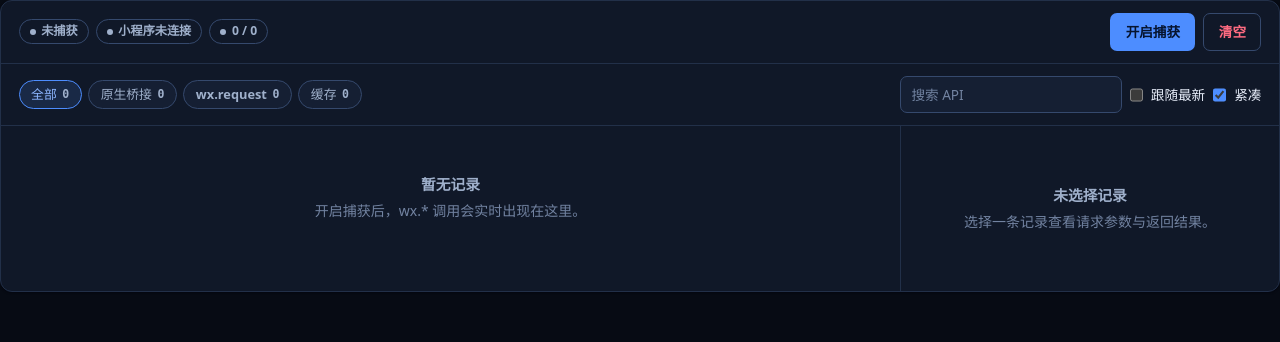
Test case: WxApiView › stops capture and reports backend errors
Click the button with test id "wxapi-toggle" at (1153, 32), box left=1110, top=13, right=1196, bottom=51
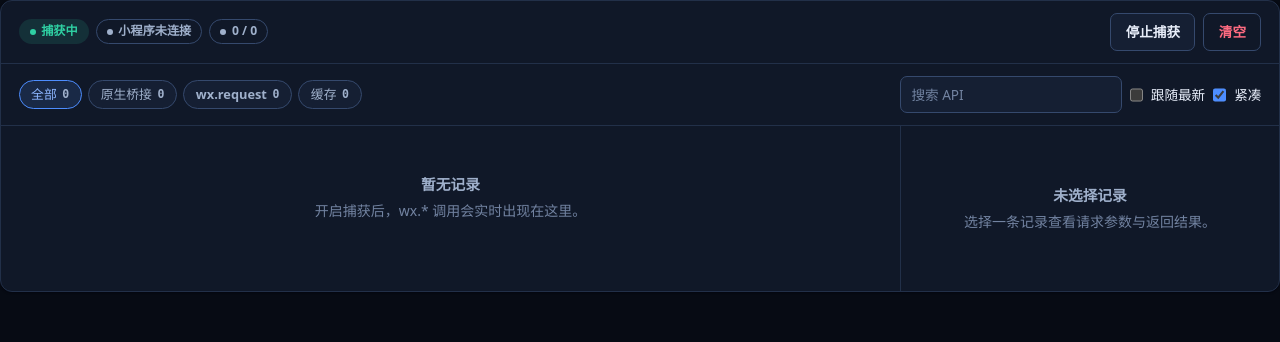
Click the button with test id "wxapi-toggle" at (1153, 32), box left=1110, top=13, right=1196, bottom=51
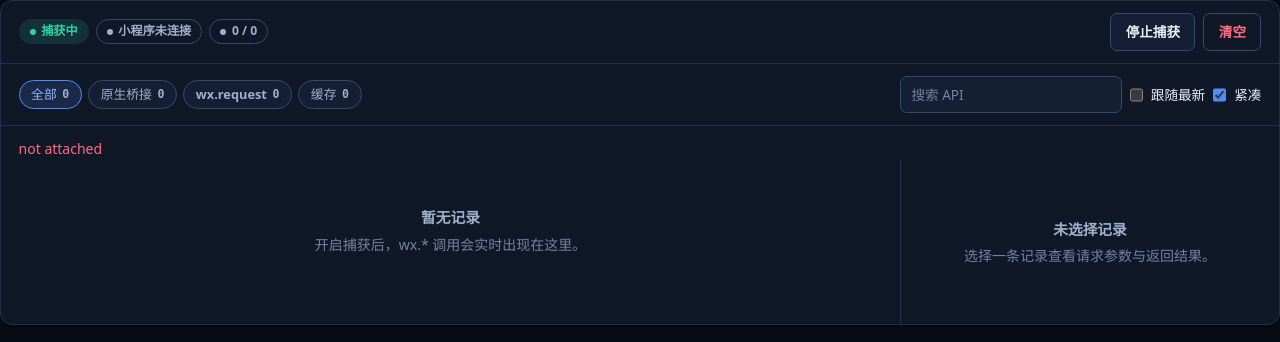
Result: the message "not attached" is shown at left=19, top=139, right=102, bottom=158
